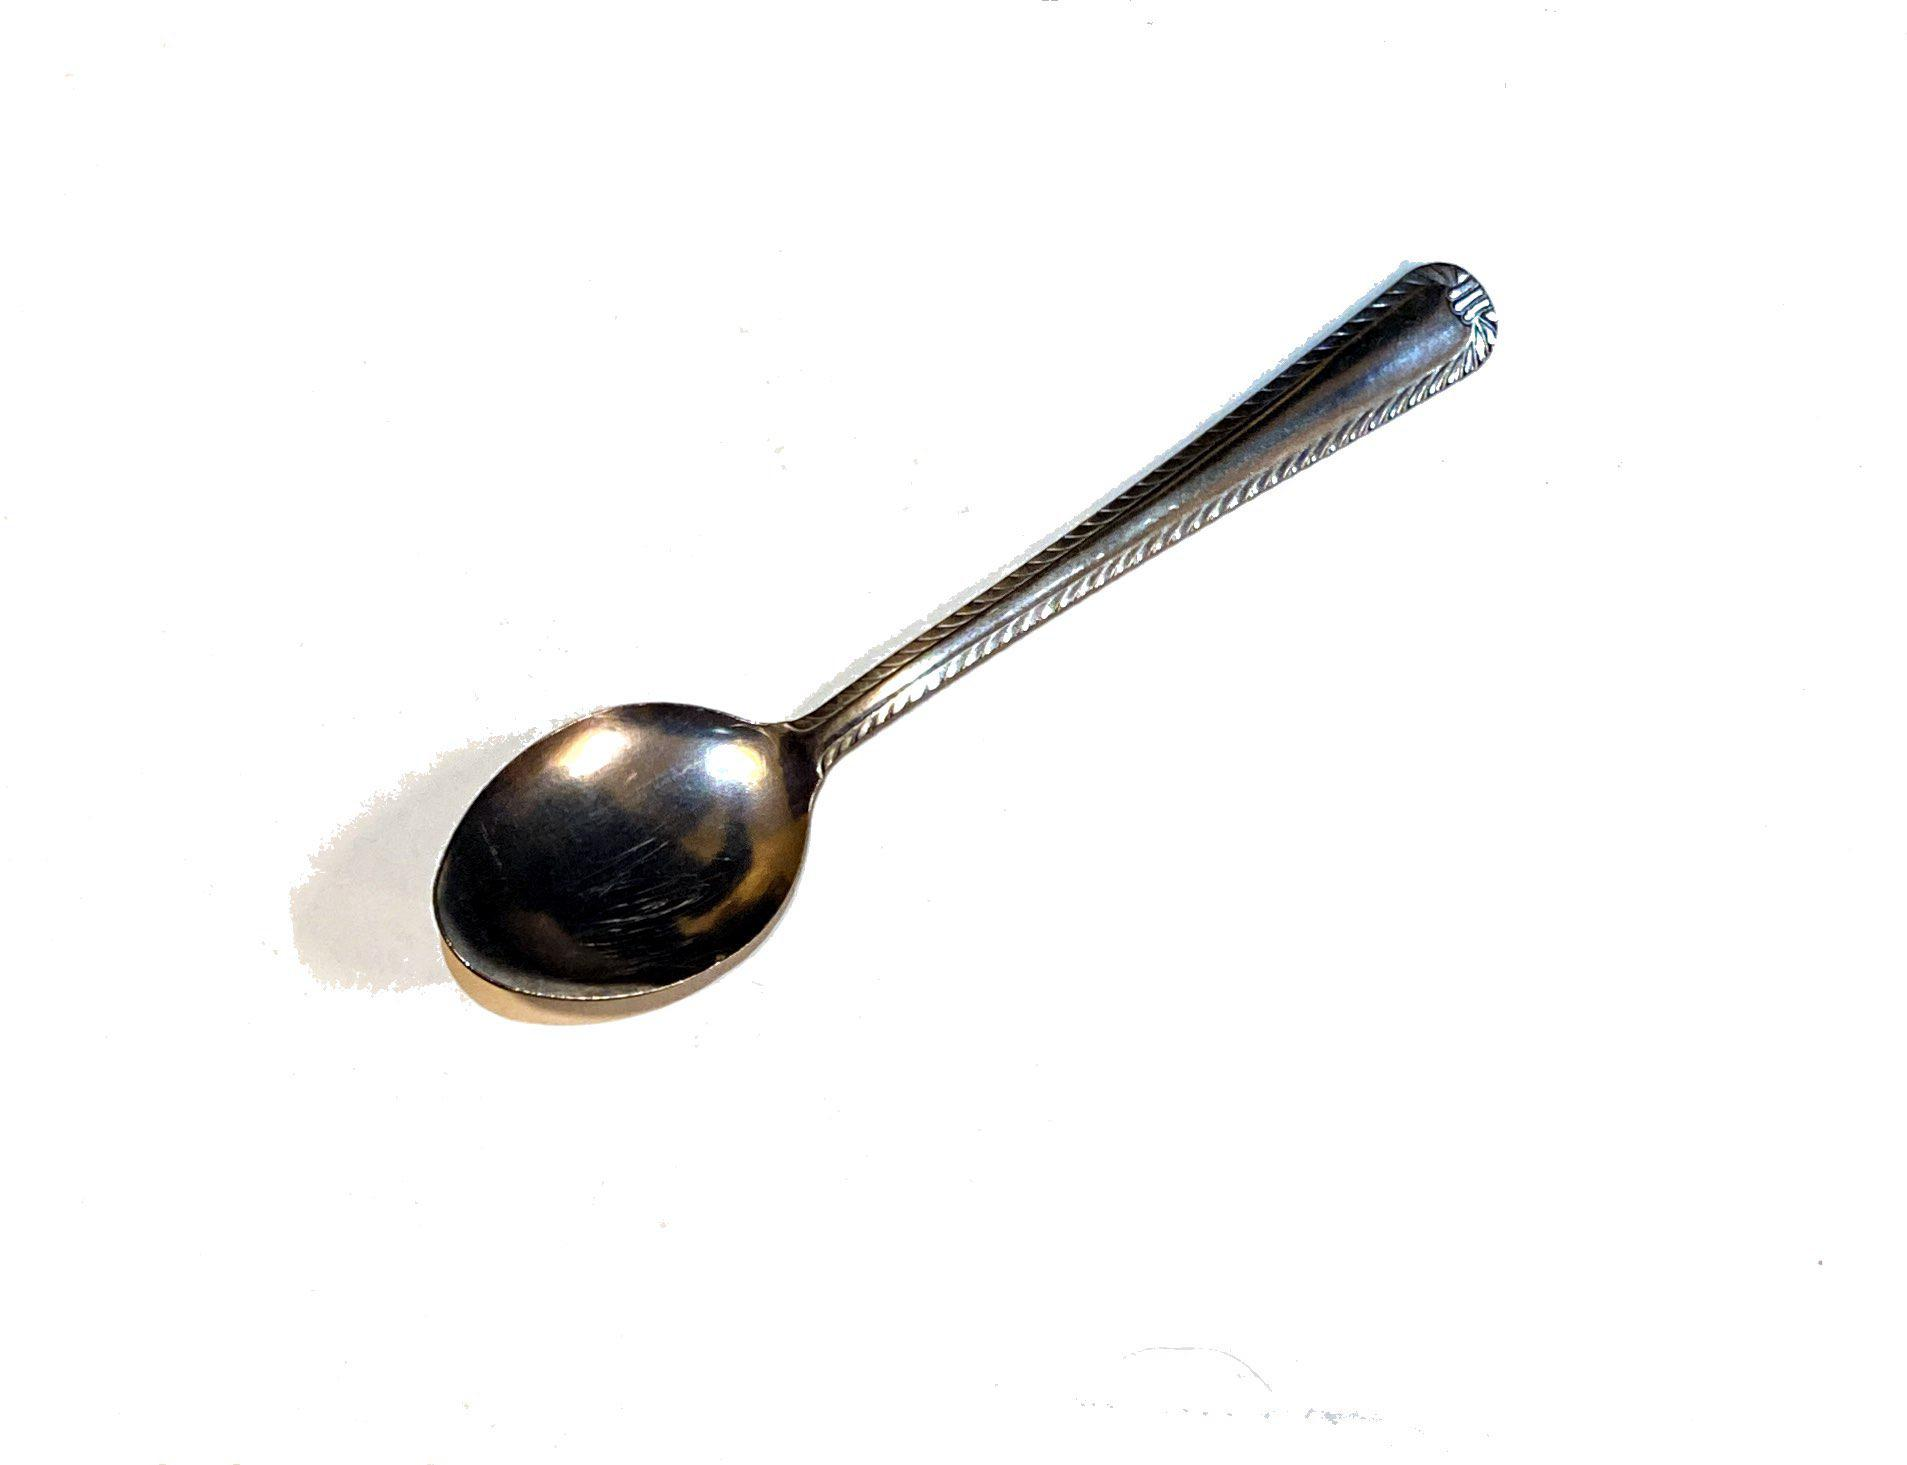Spoon: (242, 129, 1611, 1099)
